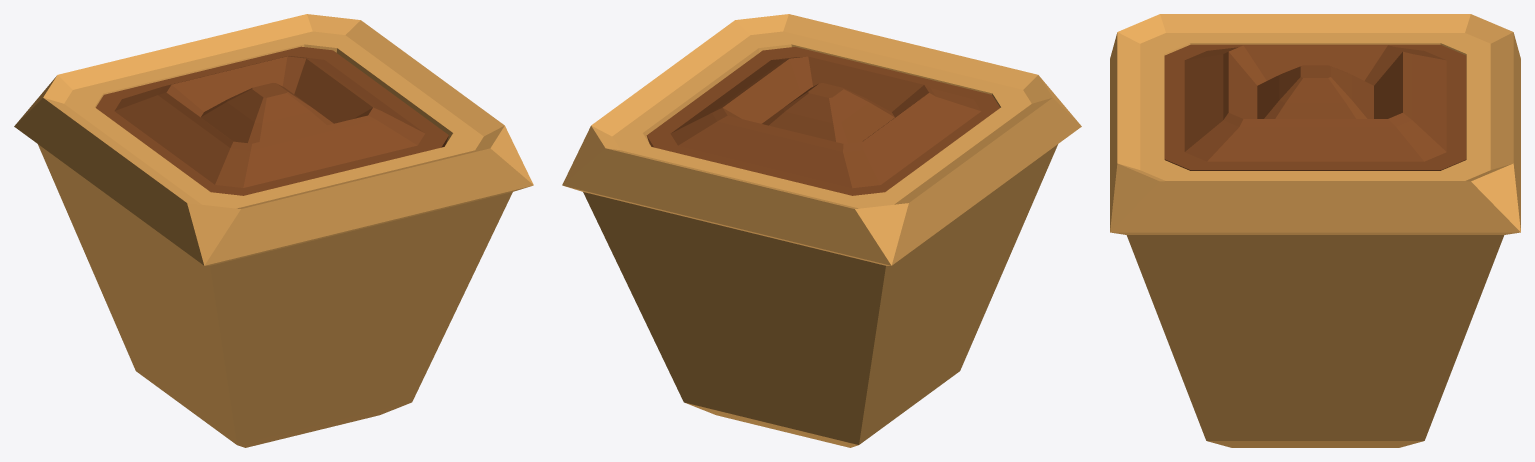
The model's file is FlowerPotTemporary.fbx.
3 views of the same model, side by side, from view 1: azimuth 30°, elevation 25°; view 2: azimuth 150°, elevation 25°; view 3: azimuth 270°, elevation 25° (orthographic). The views are drawn at different scales.
Visible parts, largest first — view 1: Pot_1, Soil; view 2: Pot_1, Soil; view 3: Pot_1, Soil.
Boxes of the visible parts, left/top/right/bottom form: Pot_1: left=14, top=14, right=533, bottom=447; Soil: left=96, top=46, right=448, bottom=195; Pot_1: left=562, top=14, right=1081, bottom=447; Soil: left=646, top=47, right=999, bottom=195; Pot_1: left=1110, top=14, right=1520, bottom=447; Soil: left=1164, top=44, right=1466, bottom=170.
Bounding box in the file's own units: 326 × 297 × 326.
